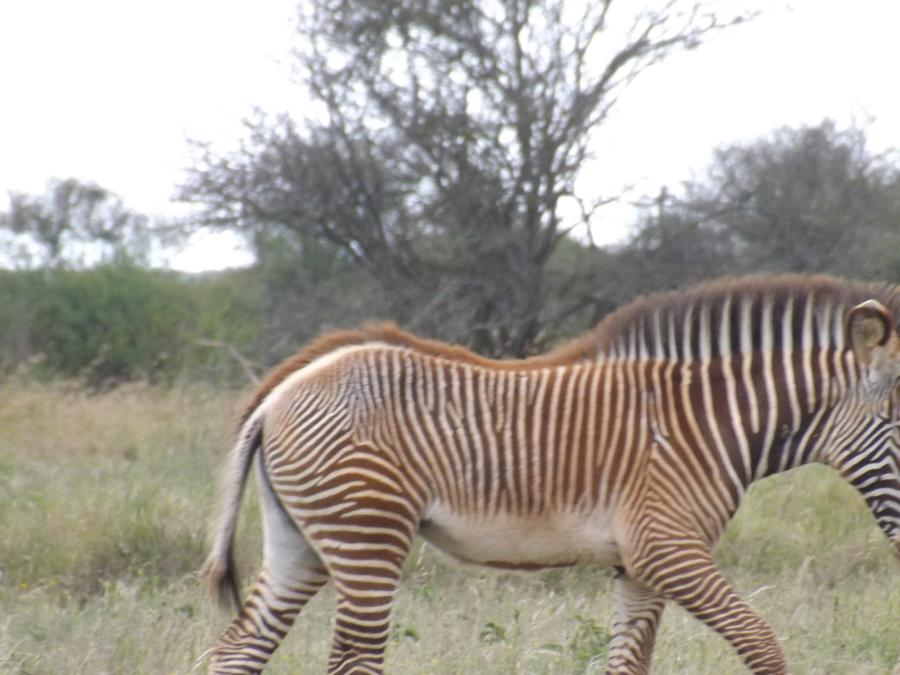zebra_grevys: (242, 313, 723, 552)
